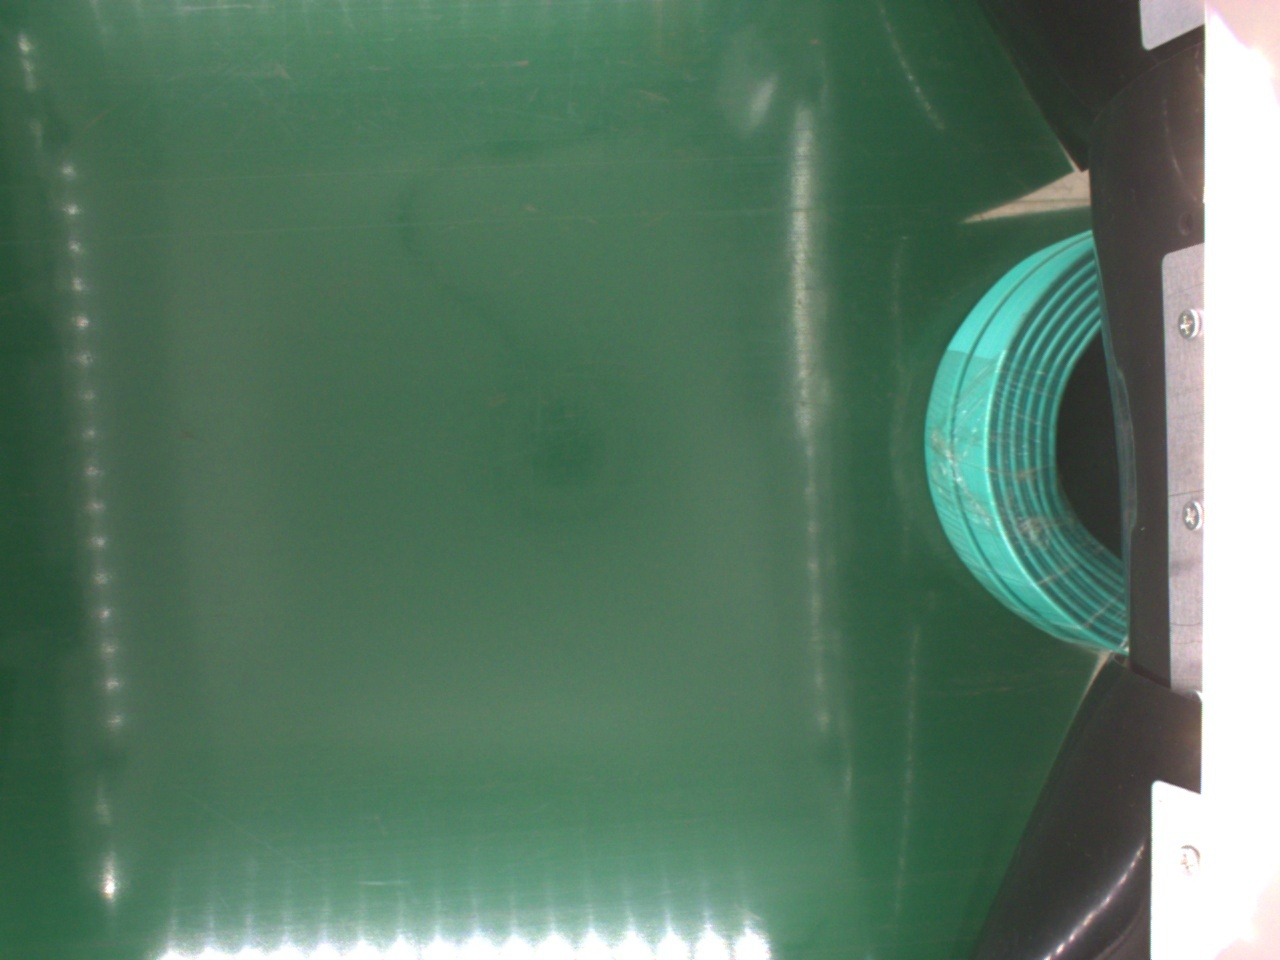green: (921, 231, 1141, 657)
